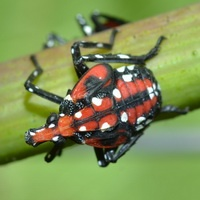insect: (24, 29, 188, 166)
